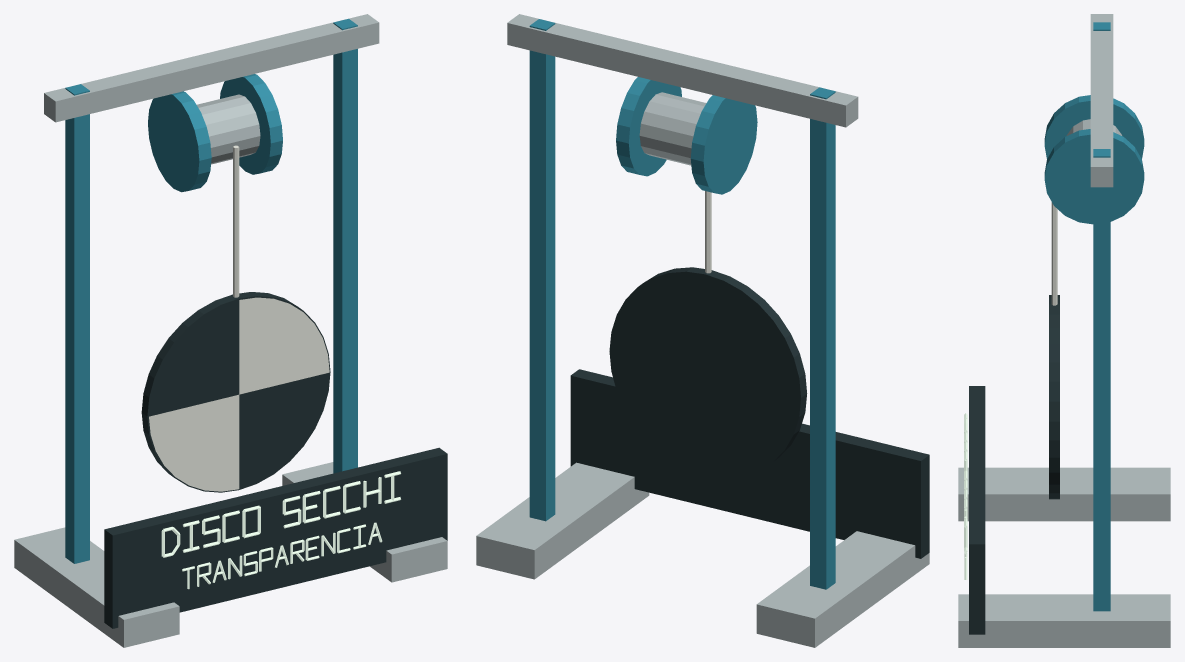
File: SHARED-002.glb
The picture shows the model from 3 angles, left to right: view 1: azimuth 30°, elevation 25°; view 2: azimuth 150°, elevation 25°; view 3: azimuth 270°, elevation 25°; orthographic projection. The views are drawn at different scales.
Visible parts, largest first — view 1: SHARED-002; view 2: SHARED-002; view 3: SHARED-002.
Boxes of the visible parts, x1,y1,x2,y2 form: SHARED-002: [14, 14, 447, 647]; SHARED-002: [476, 14, 929, 647]; SHARED-002: [958, 14, 1170, 647].
Bounding box in the file's own units: 1.5 × 2.13 × 0.85.
